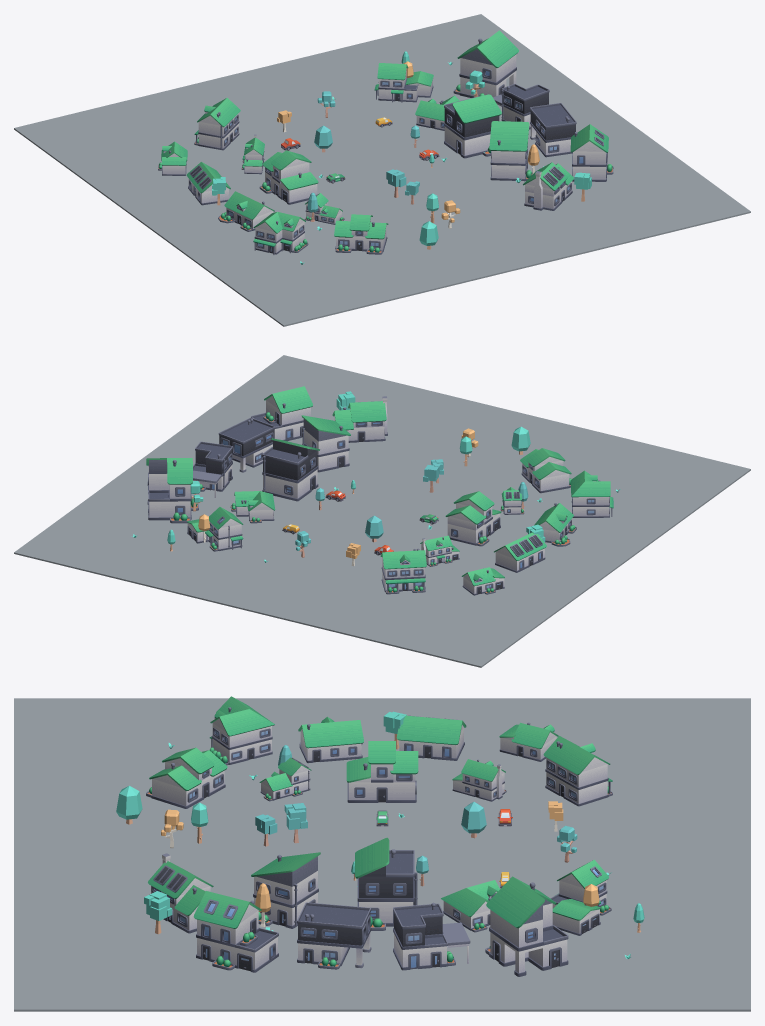
File: world.glb
The picture shows the model from 3 angles, top to bottom: view 1: azimuth 30°, elevation 25°; view 2: azimuth 150°, elevation 25°; view 3: azimuth 270°, elevation 25°; orthographic projection. The views are drawn at different scales.
Visible parts, largest first — view 1: Terrain, Twin_011_building-type-l, Twin_017_building-type-r, Twin_010_building-type-k, Twin_002_building-type-c, Twin_015_building-type-p, Twin_005_building-type-f, Twin_013_building-type-n, Twin_014_building-type-o, Twin_009_building-type-j, Twin_000_building-type-a, Twin_004_building-type-e (+7 smaller); view 2: Terrain, Twin_017_building-type-r, Twin_011_building-type-l, Twin_002_building-type-c, Twin_014_building-type-o, Twin_010_building-type-k, Twin_015_building-type-p, Twin_009_building-type-j, Twin_004_building-type-e, Twin_016_building-type-q, Twin_000_building-type-a, Twin_005_building-type-f (+7 smaller); view 3: Terrain, Twin_017_building-type-r, Twin_014_building-type-o, Twin_015_building-type-p, Twin_011_building-type-l, Twin_016_building-type-q, Twin_002_building-type-c, Twin_010_building-type-k, Twin_004_building-type-e, Twin_000_building-type-a, Twin_005_building-type-f, Twin_013_building-type-n (+11 smaller).
Part boxes in pixels (box(x1,y1,x2,y2)): Terrain: box(14, 14, 750, 326); Twin_011_building-type-l: box(444, 94, 501, 158); Twin_017_building-type-r: box(453, 30, 518, 97); Twin_010_building-type-k: box(489, 121, 532, 181); Twin_002_building-type-c: box(259, 150, 318, 204); Twin_015_building-type-p: box(530, 103, 576, 157); Twin_005_building-type-f: box(253, 212, 308, 254); Twin_013_building-type-n: box(374, 63, 433, 102); Twin_014_building-type-o: box(570, 124, 613, 181); Twin_009_building-type-j: box(523, 162, 573, 210); Twin_000_building-type-a: box(334, 214, 388, 254); Twin_004_building-type-e: box(194, 97, 240, 150); Terrain: box(14, 355, 750, 667); Twin_017_building-type-r: box(146, 458, 198, 523); Twin_011_building-type-l: box(262, 438, 319, 501); Twin_002_building-type-c: box(445, 491, 501, 546); Twin_014_building-type-o: box(251, 386, 312, 441); Twin_010_building-type-k: box(301, 415, 350, 472); Twin_015_building-type-p: box(218, 417, 274, 472); Twin_009_building-type-j: box(332, 396, 387, 442); Twin_004_building-type-e: box(380, 548, 426, 594); Twin_016_building-type-q: box(193, 441, 232, 497); Twin_000_building-type-a: box(520, 448, 571, 493); Twin_005_building-type-f: box(570, 470, 613, 517); Terrain: box(14, 698, 750, 1011); Twin_017_building-type-r: box(485, 876, 568, 976); Twin_014_building-type-o: box(193, 891, 278, 972); Twin_015_building-type-p: box(297, 902, 371, 969); Twin_011_building-type-l: box(355, 837, 417, 930); Twin_016_building-type-q: box(393, 902, 470, 970); Twin_002_building-type-c: box(346, 741, 418, 802); Twin_010_building-type-k: box(251, 852, 320, 928); Twin_004_building-type-e: box(543, 736, 612, 806); Twin_000_building-type-a: box(146, 747, 227, 808); Twin_005_building-type-f: box(209, 696, 274, 765); Twin_013_building-type-n: box(550, 859, 611, 935).
Size of the model in its own units: 150 by 16.75 by 150.
60 materials, 22 textured.
